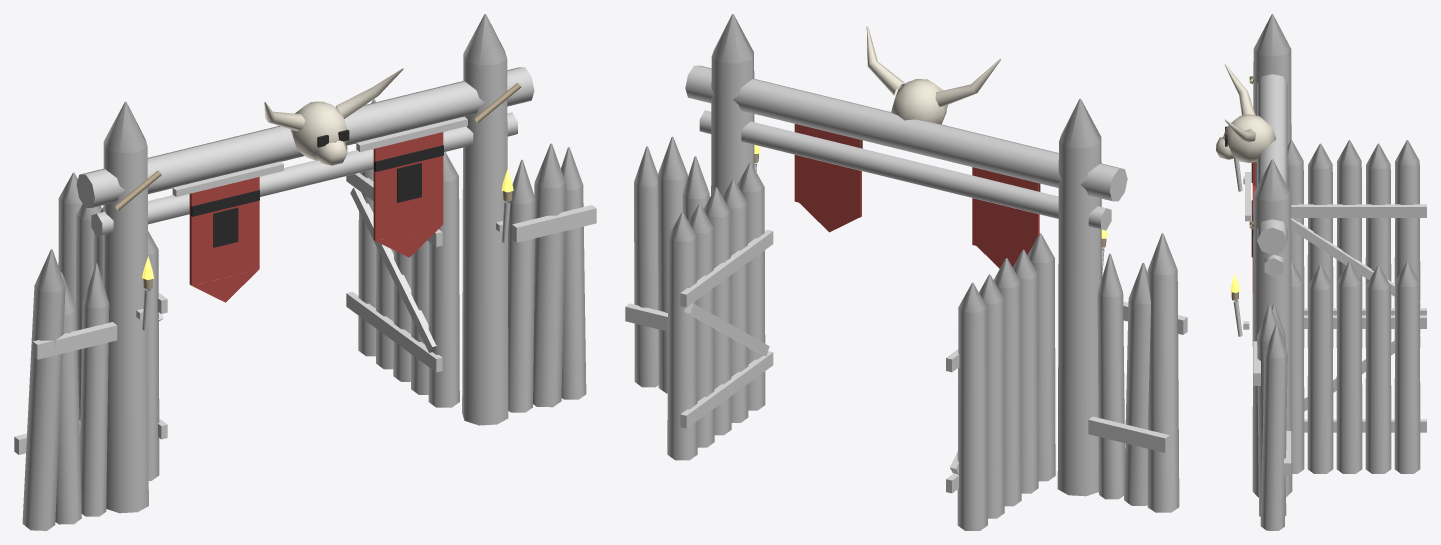
The model's file is palisade_gate.glb.
The picture shows the model from 3 angles, left to right: view 1: azimuth 30°, elevation 25°; view 2: azimuth 150°, elevation 25°; view 3: azimuth 270°, elevation 25°; orthographic projection. The views are drawn at different scales.
Parts seen in each view (by area): view 1: palisade_gate; view 2: palisade_gate; view 3: palisade_gate.
Boxes of the visible parts, x1=… form: palisade_gate: x1=14, y1=14, x2=596, y2=530; palisade_gate: x1=625, y1=14, x2=1187, y2=530; palisade_gate: x1=1216, y1=14, x2=1426, y2=530.
Bounding box in the file's own units: 7 × 4.81 × 2.76.
